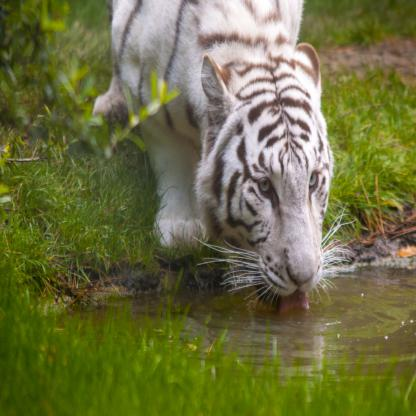tiger: (204, 57, 349, 315)
